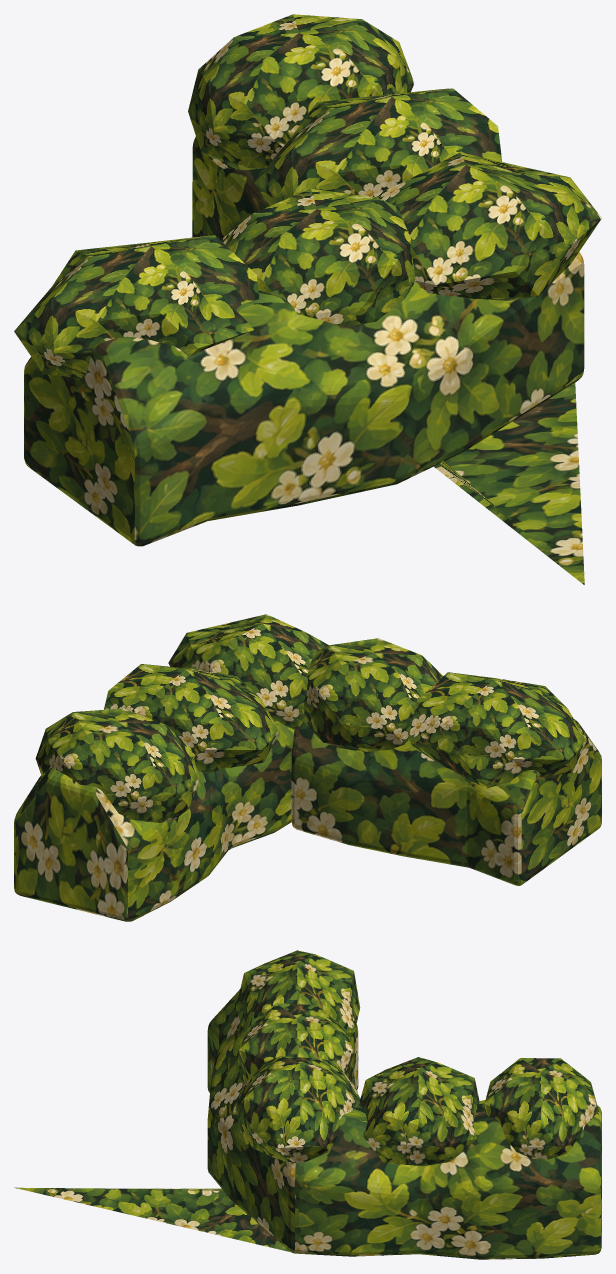
File: hawthorn_corner.glb
3 views of the same model, one above another, from view 1: azimuth 30°, elevation 25°; view 2: azimuth 150°, elevation 25°; view 3: azimuth 270°, elevation 25° (orthographic). The views are drawn at different scales.
Parts seen in each view (by area): view 1: Painted flowering hawthorn; view 2: Painted flowering hawthorn; view 3: Painted flowering hawthorn.
Boxes of the visible parts, <box> form: Painted flowering hawthorn: <box>14,14,601,584</box>; Painted flowering hawthorn: <box>14,614,601,921</box>; Painted flowering hawthorn: <box>14,950,601,1259</box>.
Bounding box in the file's own units: 5.44 × 2.25 × 7.37.
Materials: 2 (2 with a texture image).
